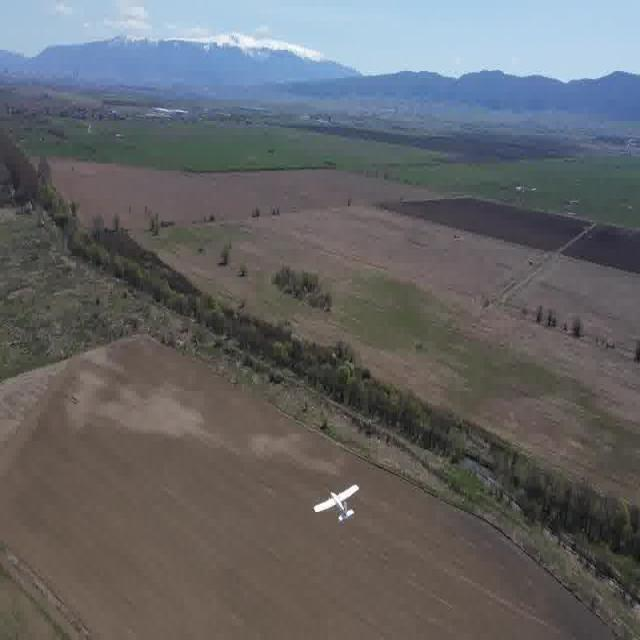iha: (310, 474, 362, 530)
